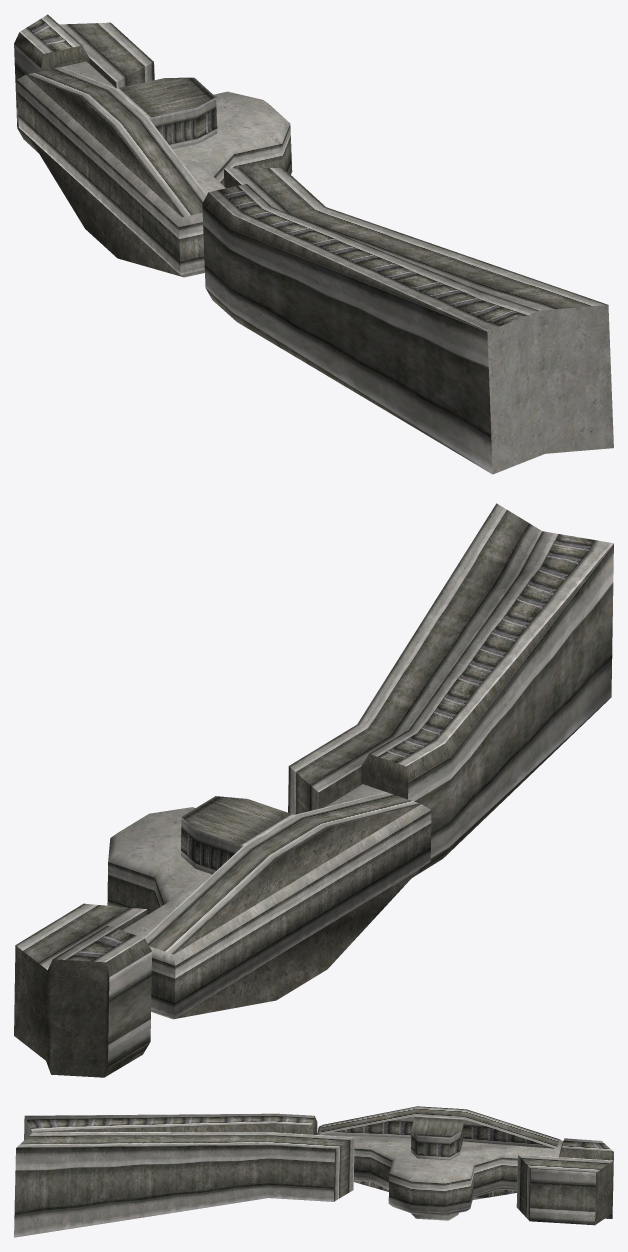
The model's file is DWARF_PALACE_MAINHALL_DEBREE06.fbx.
3 renders of one model, top to bottom at view 1: azimuth 30°, elevation 25°; view 2: azimuth 150°, elevation 25°; view 3: azimuth 270°, elevation 25°, orthographic. The views are drawn at different scales.
Parts seen in each view (by area): view 1: DWARF_PALACE_MAINHALL_DEBREE06; view 2: DWARF_PALACE_MAINHALL_DEBREE06; view 3: DWARF_PALACE_MAINHALL_DEBREE06.
Boxes of the visible parts, x1,y1,x2,y2 form: DWARF_PALACE_MAINHALL_DEBREE06: (14, 14, 613, 474); DWARF_PALACE_MAINHALL_DEBREE06: (14, 503, 613, 1077); DWARF_PALACE_MAINHALL_DEBREE06: (14, 1106, 613, 1237).
Size of the model in its own units: 33611 by 25287 by 146101.
4 materials, 4 textured.
